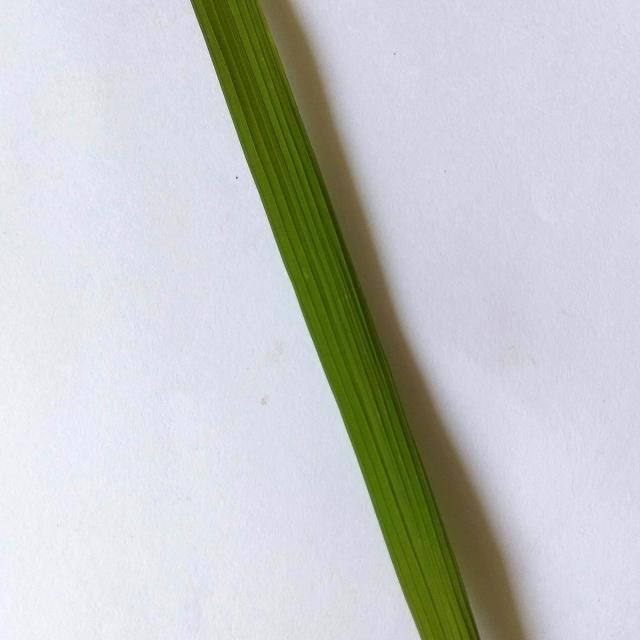healthy: (175, 3, 502, 640)
